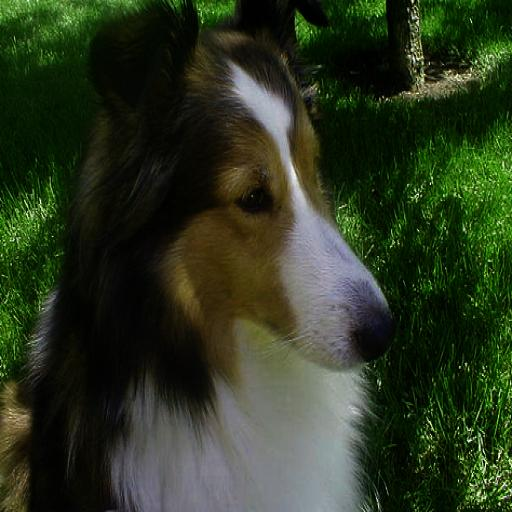dog_face: (84, 0, 393, 393)
